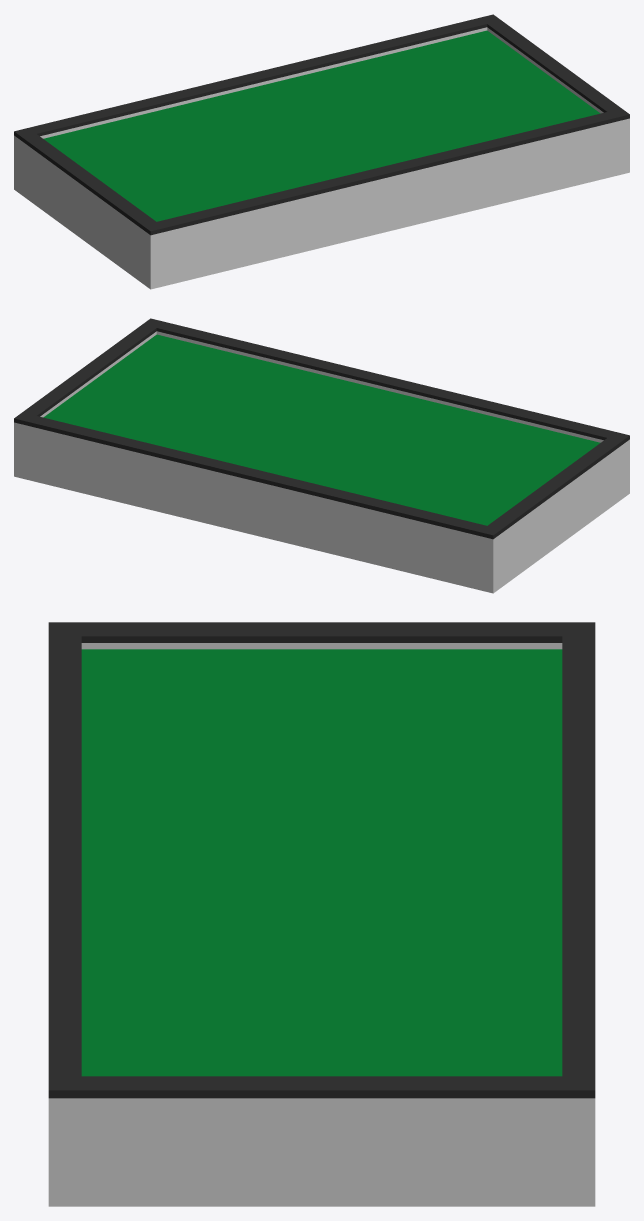
Rendered from Flowerbed-01b.fbx.
The picture shows the model from 3 angles, top to bottom: view 1: azimuth 30°, elevation 25°; view 2: azimuth 150°, elevation 25°; view 3: azimuth 270°, elevation 25°; orthographic projection. The views are drawn at different scales.
Visible parts, largest first — view 1: Flowerbed-01b; view 2: Flowerbed-01b; view 3: Flowerbed-01b.
Boxes of the visible parts, box(x1,y1,x2,y2) form: Flowerbed-01b: box(14, 14, 629, 289); Flowerbed-01b: box(14, 318, 629, 593); Flowerbed-01b: box(48, 622, 595, 1206).
Size of the model in its own units: 6.72 by 0.7792 by 3.32.
